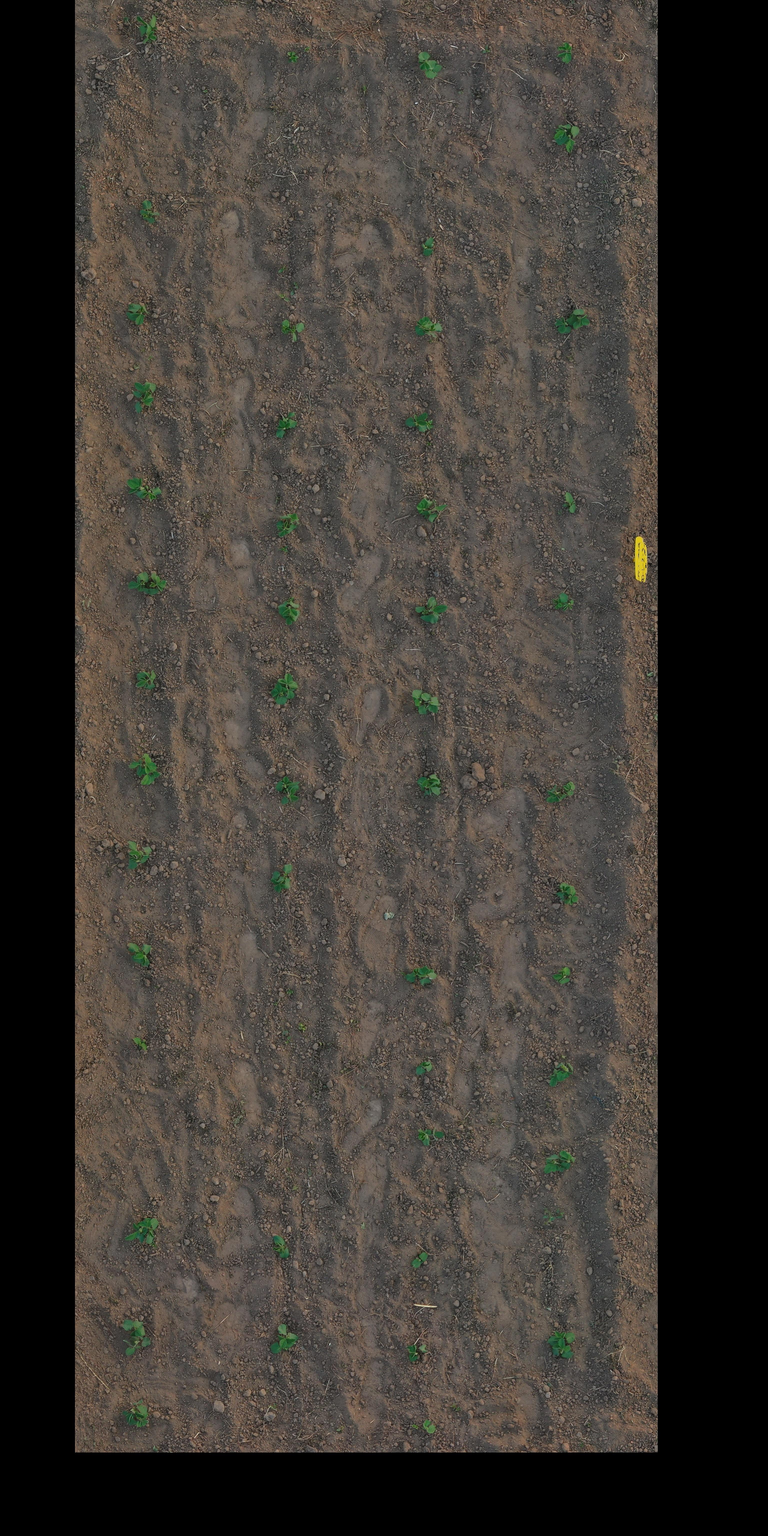s: (122, 1398, 148, 1426), (416, 498, 446, 522), (122, 1336, 151, 1356), (270, 1335, 299, 1354), (277, 1324, 299, 1349), (277, 673, 298, 699), (139, 1217, 159, 1244), (136, 14, 158, 38), (132, 390, 154, 414), (417, 1127, 444, 1146), (552, 1337, 575, 1359), (554, 313, 578, 334), (426, 596, 448, 618), (128, 571, 149, 594), (124, 1221, 145, 1244), (545, 783, 568, 804), (547, 1068, 572, 1087), (270, 680, 288, 706), (547, 1331, 576, 1347), (420, 692, 441, 714), (126, 303, 146, 326), (405, 412, 428, 432), (127, 850, 150, 870), (563, 126, 580, 153), (416, 774, 441, 792), (278, 606, 300, 626), (135, 484, 162, 500), (148, 572, 166, 596), (405, 965, 429, 983), (122, 1319, 146, 1337), (406, 1344, 428, 1363), (411, 689, 427, 715), (554, 123, 572, 146), (415, 606, 438, 624), (272, 1235, 289, 1259), (136, 670, 156, 690), (275, 776, 300, 792), (280, 784, 299, 805), (276, 520, 298, 538), (128, 840, 152, 856), (415, 316, 434, 336), (418, 966, 437, 986), (573, 308, 590, 330), (138, 768, 160, 785), (128, 756, 158, 768), (270, 871, 286, 893), (127, 942, 152, 956), (133, 381, 156, 396), (418, 51, 436, 70), (126, 476, 145, 494), (559, 1150, 576, 1170), (557, 42, 572, 64), (553, 966, 571, 984), (131, 951, 150, 968), (559, 592, 575, 612), (544, 1154, 560, 1174), (277, 596, 299, 610), (142, 200, 160, 217), (423, 322, 442, 338), (556, 882, 572, 901), (275, 419, 290, 439), (564, 886, 579, 906), (563, 492, 577, 513), (142, 24, 156, 44), (290, 322, 304, 342), (424, 64, 442, 79), (282, 411, 297, 429), (421, 236, 434, 256), (282, 864, 292, 890), (412, 1252, 428, 1268), (424, 781, 441, 796), (415, 1061, 432, 1076), (139, 209, 155, 224), (132, 1037, 147, 1052), (279, 513, 299, 524), (422, 1419, 436, 1434), (136, 1413, 149, 1428), (563, 781, 576, 796), (555, 1062, 574, 1072), (140, 768, 150, 786), (281, 319, 292, 335), (287, 51, 299, 63), (552, 598, 563, 610), (425, 419, 434, 430)
